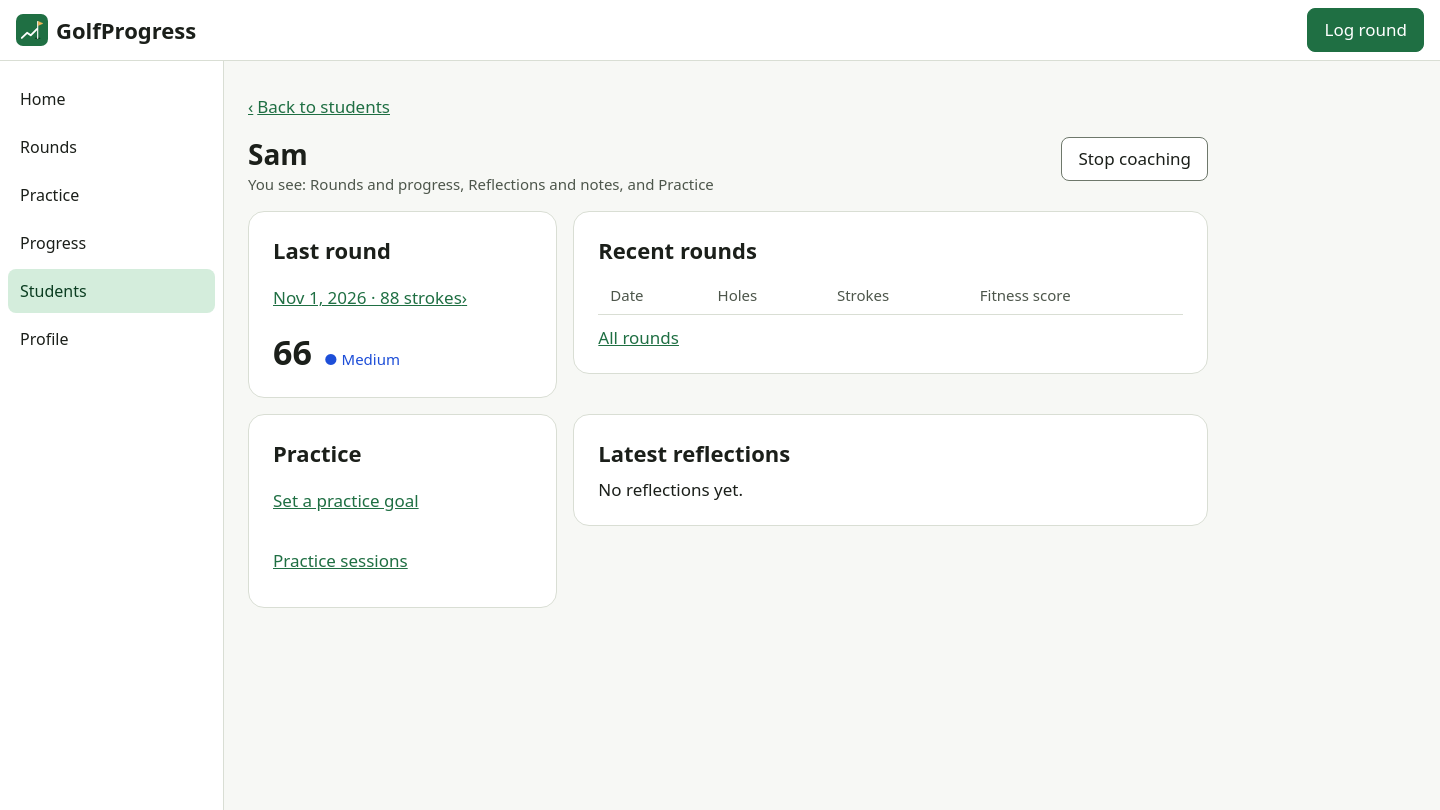
Test case: a student's practice (#206) › opens from the overview, read-only, with the session's notes
The image size is (1440, 810).
Click the link "Practice sessions" at (340, 560), box [273,549,408,572]
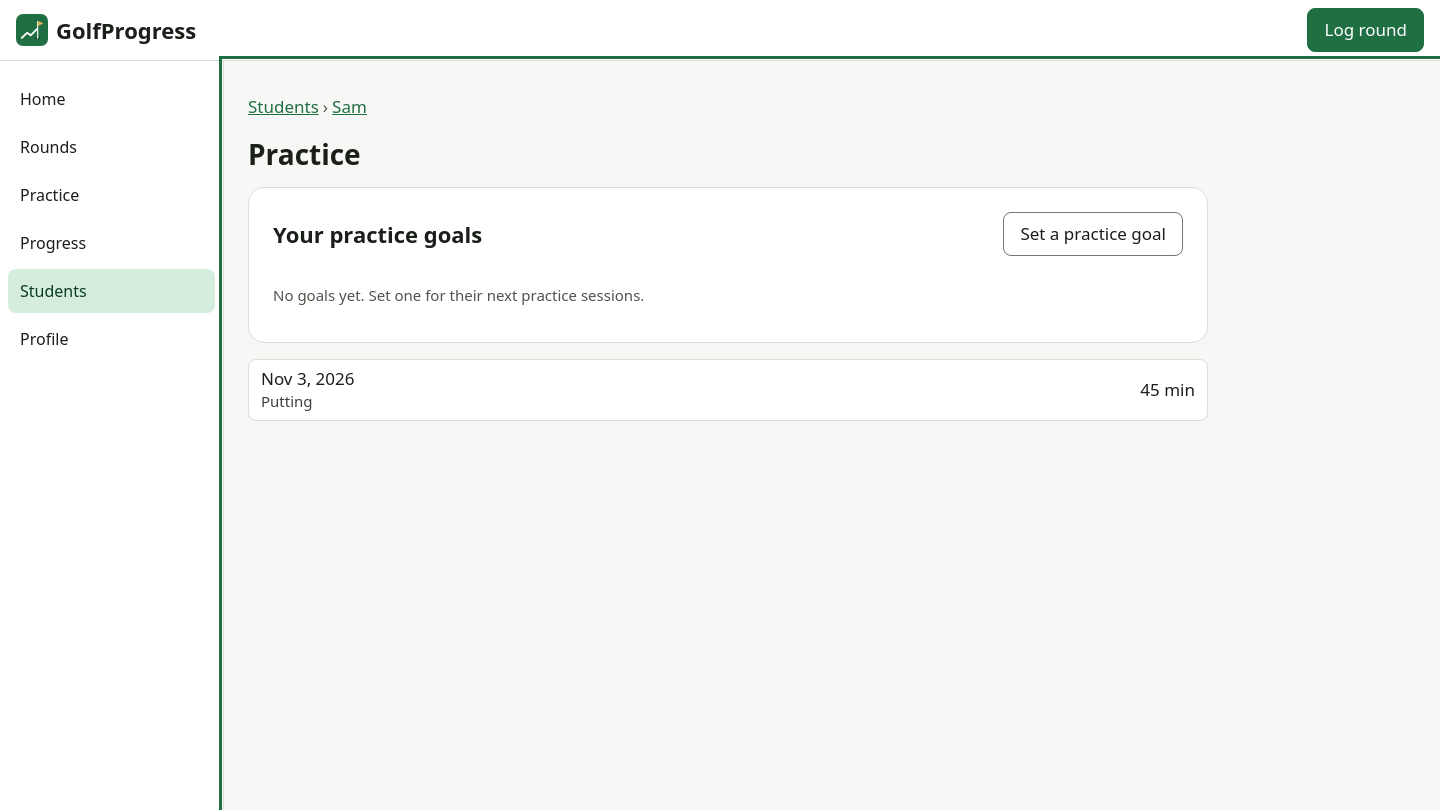
Result: the heading "Practice" is shown at [248,137,361,171]
Click the link "Nov 3, 2026 Putting 45 min" at (308, 378), box [248,359,1208,421]
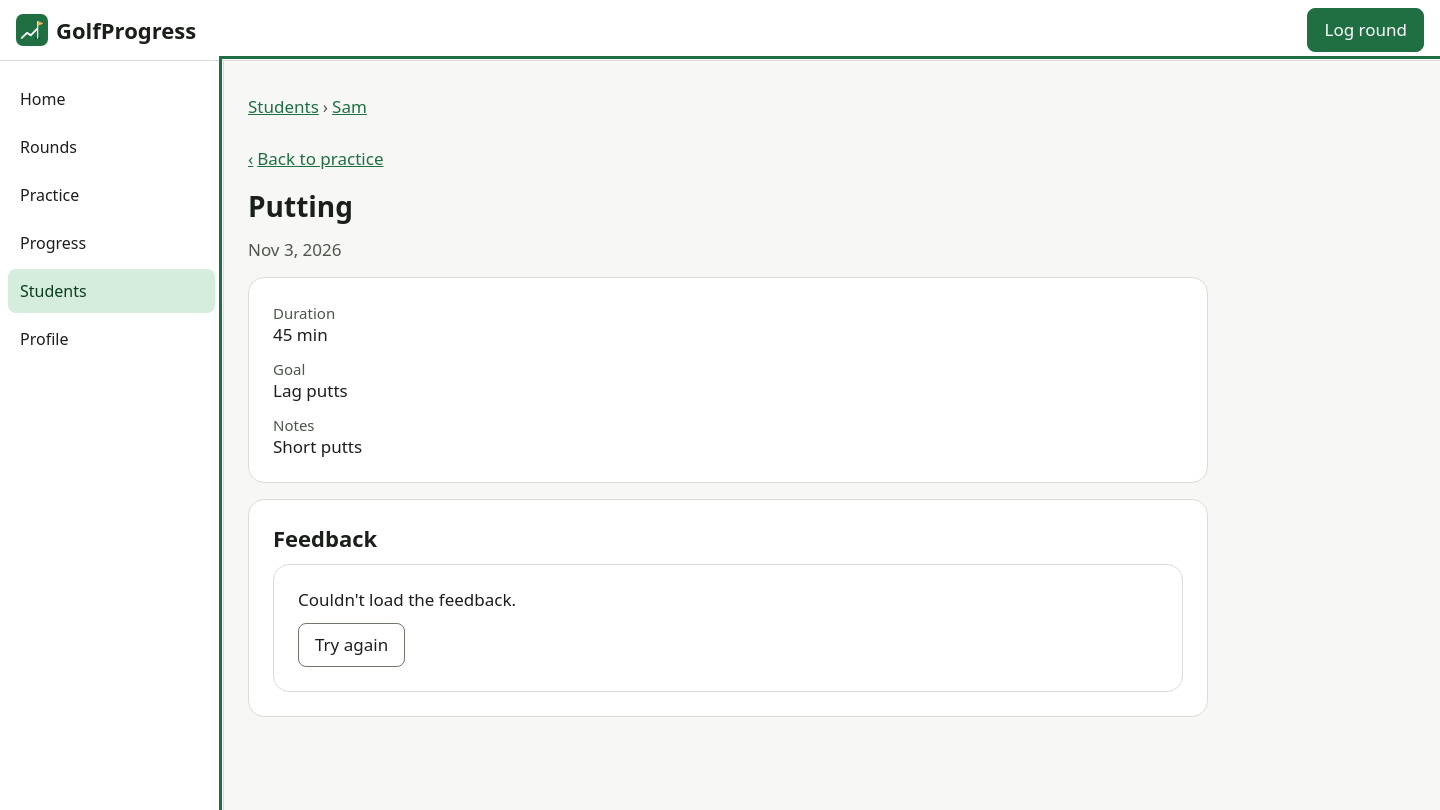
Result: the text "Short putts" is shown at [273,435,362,458]
